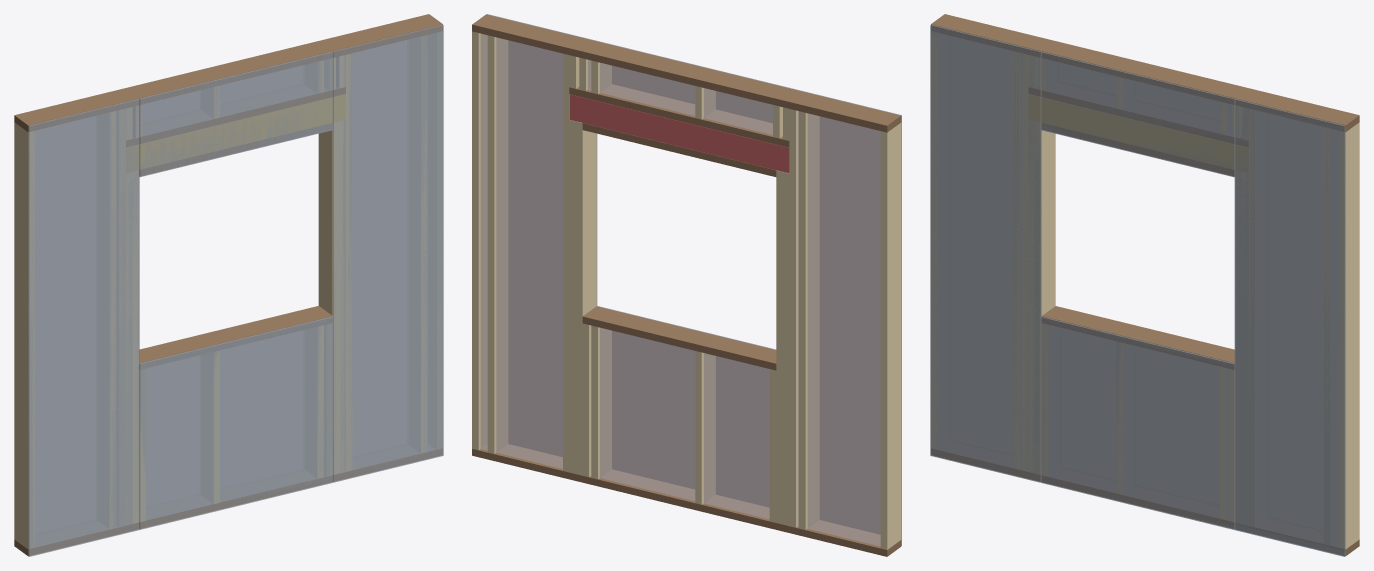
3 renders of one model, left to right at view 1: azimuth 30°, elevation 25°; view 2: azimuth 150°, elevation 25°; view 3: azimuth 330°, elevation 25°, orthographic.
Visible parts, largest first — view 1: EX5 FF; view 2: EX5 FF; view 3: EX5 FF.
Boxes of the visible parts, x1=… form: EX5 FF: x1=14, y1=14, x2=443, y2=556; EX5 FF: x1=472, y1=14, x2=901, y2=556; EX5 FF: x1=930, y1=14, x2=1359, y2=556.
Bounding box in the file's own units: 2.4 × 2.38 × 0.149.
